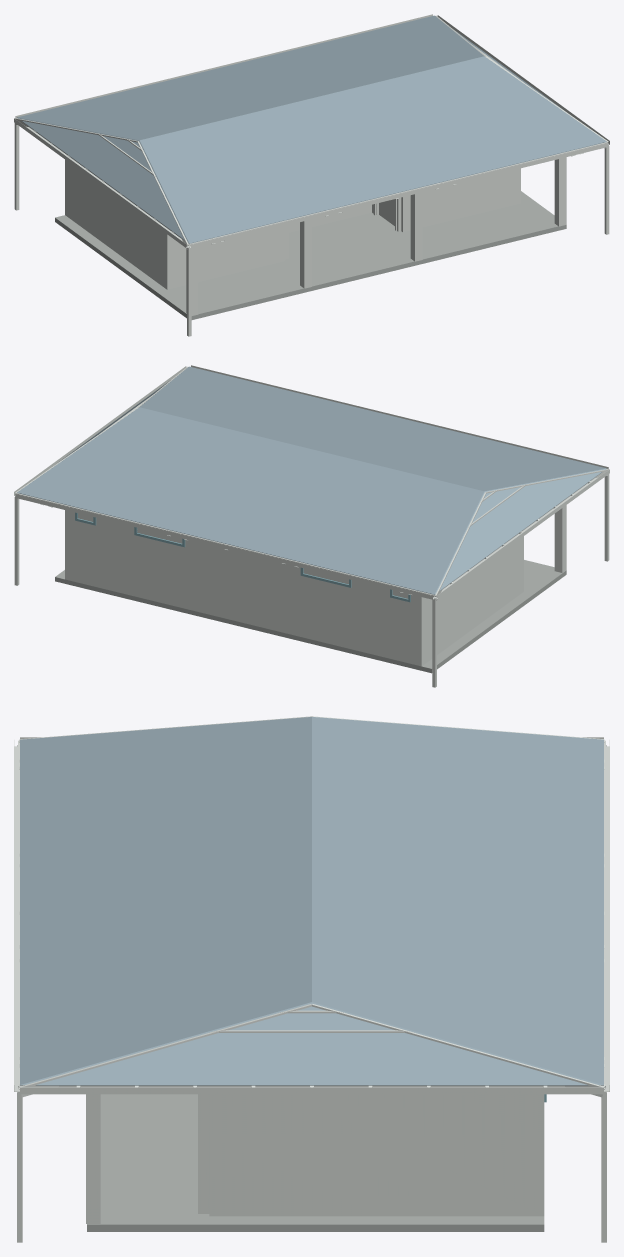
Rendered from banos.glb.
3 renders of one model, top to bottom at view 1: azimuth 30°, elevation 25°; view 2: azimuth 150°, elevation 25°; view 3: azimuth 270°, elevation 25°, orthographic. The views are drawn at different scales.
Visible parts, largest first — view 1: Basic Roof VOCATUS - Cubierta HG #26 representacion 10 _1a02, Floor VOCATUS - Contrapiso 100 mm + ceramica 10 mm [1242449], Basic Wall VOCATUS - Block 150 mm / A18 [1242424], Basic Wall VOCATUS - Block 150 mm / A18 [1242428], Basic Wall VOCATUS - Block 150 mm / A18 [1242427], VOCATUS - Canoa 3 [1243074], VOCATUS - Canoa 4 [1243076], VOCATUS - Canoa 1 [1243070], VOCATUS - Poste corredor 5665 [1242708], VOCATUS - Poste corredor 9445 [1242709], VOCATUS - Poste corredor 2760 [1242707], VOCATUS - Clavador 10-1 [1243065] (+7 smaller); view 2: Basic Roof VOCATUS - Cubierta HG #26 representacion 10 _1a02, Basic Wall VOCATUS - Block 150 mm / A18 [1242426], Basic Wall VOCATUS - Block 150 mm / A18 [1242424], Floor VOCATUS - Contrapiso 100 mm + ceramica 10 mm [1242449], VOCATUS - Canoa 1 [1243070], VOCATUS - Canoa 4 [1243076], VOCATUS - Canoa 3 [1243074], VOCATUS - Poste corredor -225 [1242706], VOCATUS - Clavador 0-1 [1243037], VOCATUS - Canoa 2 [1243072], VOCATUS - Bajante pluvial 2 [1243073], VOCATUS - Bajante pluvial 4 [1243077] (+1 smaller); view 3: Basic Roof VOCATUS - Cubierta HG #26 representacion 10 _1a02, Basic Wall VOCATUS - Block 150 mm / A18 [1242425], Floor VOCATUS - Contrapiso 100 mm + ceramica 10 mm [1242449], VOCATUS - Canoa 2 [1243072], VOCATUS - Poste corredor 9445 [1242709], Basic Wall VOCATUS - Block 150 mm / A18 [1242428], VOCATUS - Canoa 1 [1243070], VOCATUS - Canoa 3 [1243074], VOCATUS - Limatesa 10095--875 [1243020], VOCATUS - Limatesa 10095-6965 [1243021], VOCATUS - Bajante pluvial 2 [1243073], VOCATUS - Bajante pluvial 3 [1243075] (+2 smaller).
Boxes of the visible parts, x1,y1,x2,y2 form: Basic Roof VOCATUS - Cubierta HG #26 representacion 10 _1a02: [17, 15, 606, 243]; Floor VOCATUS - Contrapiso 100 mm + ceramica 10 mm [1242449]: [55, 191, 566, 319]; Basic Wall VOCATUS - Block 150 mm / A18 [1242424]: [65, 160, 172, 289]; Basic Wall VOCATUS - Block 150 mm / A18 [1242428]: [401, 168, 520, 232]; Basic Wall VOCATUS - Block 150 mm / A18 [1242427]: [173, 226, 285, 288]; VOCATUS - Canoa 3 [1243074]: [187, 143, 608, 248]; VOCATUS - Canoa 4 [1243076]: [14, 118, 190, 248]; VOCATUS - Canoa 1 [1243070]: [15, 14, 432, 118]; VOCATUS - Poste corredor 5665 [1242708]: [410, 192, 422, 261]; VOCATUS - Poste corredor 9445 [1242709]: [554, 157, 566, 226]; VOCATUS - Poste corredor 2760 [1242707]: [300, 219, 311, 288]; VOCATUS - Clavador 10-1 [1243065]: [188, 142, 607, 246]; Basic Roof VOCATUS - Cubierta HG #26 representacion 10 _1a02: [17, 366, 606, 594]; Basic Wall VOCATUS - Block 150 mm / A18 [1242426]: [70, 511, 415, 664]; Basic Wall VOCATUS - Block 150 mm / A18 [1242424]: [416, 536, 523, 666]; Floor VOCATUS - Contrapiso 100 mm + ceramica 10 mm [1242449]: [55, 560, 566, 673]; VOCATUS - Canoa 1 [1243070]: [15, 494, 436, 599]; VOCATUS - Canoa 4 [1243076]: [433, 469, 609, 599]; VOCATUS - Canoa 3 [1243074]: [191, 365, 608, 469]; VOCATUS - Poste corredor -225 [1242706]: [554, 505, 566, 572]; VOCATUS - Clavador 0-1 [1243037]: [16, 493, 435, 597]; VOCATUS - Canoa 2 [1243072]: [14, 366, 186, 495]; VOCATUS - Bajante pluvial 2 [1243073]: [14, 497, 19, 585]; VOCATUS - Bajante pluvial 4 [1243077]: [604, 474, 609, 561]; Basic Roof VOCATUS - Cubierta HG #26 representacion 10 _1a02: [20, 717, 603, 1085]; Basic Wall VOCATUS - Block 150 mm / A18 [1242425]: [209, 1094, 544, 1216]; Floor VOCATUS - Contrapiso 100 mm + ceramica 10 mm [1242449]: [87, 1094, 544, 1231]; VOCATUS - Canoa 2 [1243072]: [20, 1085, 603, 1094]; VOCATUS - Poste corredor 9445 [1242709]: [86, 1094, 100, 1223]; Basic Wall VOCATUS - Block 150 mm / A18 [1242428]: [198, 1094, 209, 1213]; VOCATUS - Canoa 1 [1243070]: [604, 740, 609, 1091]; VOCATUS - Canoa 3 [1243074]: [14, 740, 19, 1091]; VOCATUS - Limatesa 10095--875 [1243020]: [312, 1004, 605, 1097]; VOCATUS - Limatesa 10095-6965 [1243021]: [18, 1004, 311, 1097]; VOCATUS - Bajante pluvial 2 [1243073]: [601, 1092, 606, 1242]; VOCATUS - Bajante pluvial 3 [1243075]: [17, 1092, 22, 1242].
Bounding box in the file's own units: 11.13 × 3.21 × 8.
